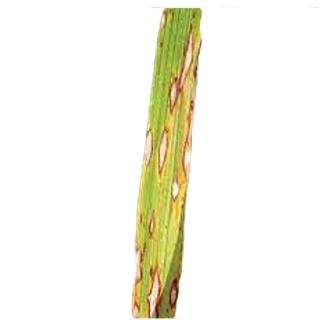Blast: (164, 27, 195, 111), (150, 259, 182, 316), (144, 247, 170, 314), (162, 264, 186, 317), (140, 124, 162, 178), (177, 133, 200, 179), (129, 250, 142, 318), (143, 208, 163, 244), (166, 178, 178, 206)
